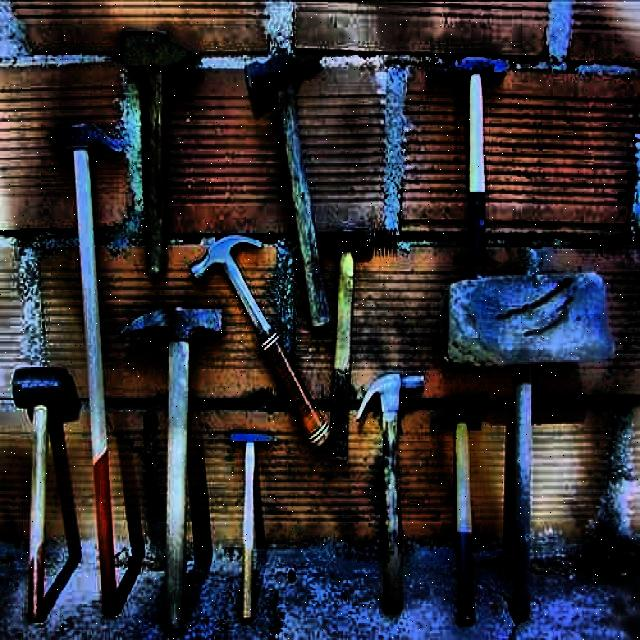hammer: (55, 122, 145, 618), (123, 302, 227, 634), (189, 236, 339, 452), (242, 46, 352, 326), (121, 30, 199, 278), (431, 53, 508, 275), (356, 362, 424, 613), (433, 409, 489, 623), (322, 227, 368, 457), (230, 423, 276, 623)
